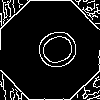O: (25, 25, 82, 78)
